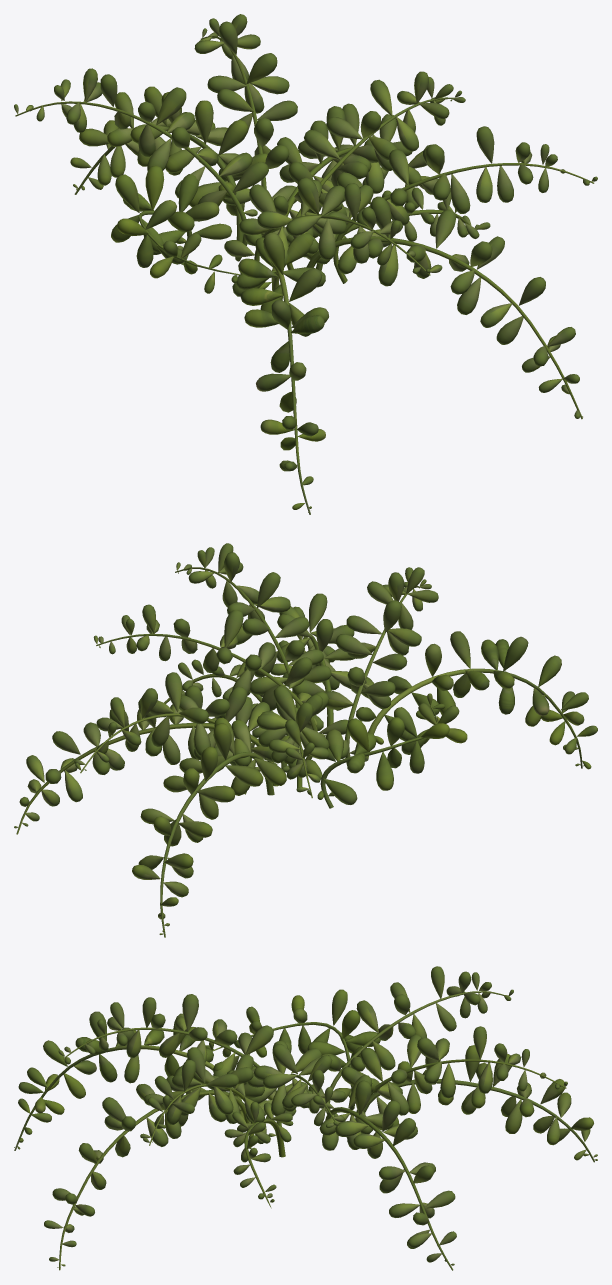
The model's file is plant_leaves_1.obj.
3 views of the same model, one above another, from view 1: azimuth 30°, elevation 25°; view 2: azimuth 150°, elevation 25°; view 3: azimuth 270°, elevation 25° (orthographic). The views are drawn at different scales.
Visible parts, largest first — view 1: Plant_small; view 2: Plant_small; view 3: Plant_small.
Boxes of the visible parts, x1=… form: Plant_small: x1=14, y1=14, x2=597, y2=514; Plant_small: x1=14, y1=543, x2=597, y2=937; Plant_small: x1=14, y1=966, x2=597, y2=1270.
Size of the model in its own units: 0.1821 by 0.1081 by 0.2797.
